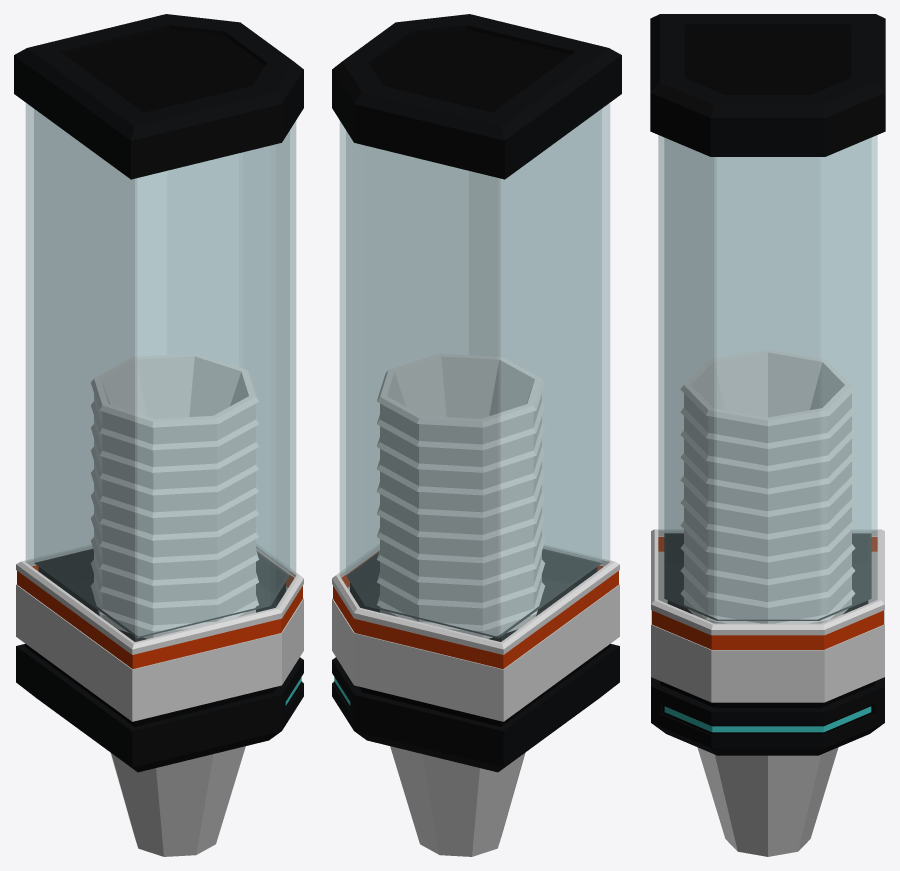
Rendered from SM_WallCupDispenser.obj.
The picture shows the model from 3 angles, left to right: view 1: azimuth 30°, elevation 25°; view 2: azimuth 150°, elevation 25°; view 3: azimuth 270°, elevation 25°; orthographic projection.
Visible parts, largest first — view 1: SM_WallCupDispenser; view 2: SM_WallCupDispenser; view 3: SM_WallCupDispenser.
Boxes of the visible parts, bbox=[...] form: SM_WallCupDispenser: bbox=[14, 14, 303, 856]; SM_WallCupDispenser: bbox=[332, 14, 621, 856]; SM_WallCupDispenser: bbox=[650, 14, 885, 856].
Size of the model in its own units: 0.1121 by 0.4084 by 0.1118.
